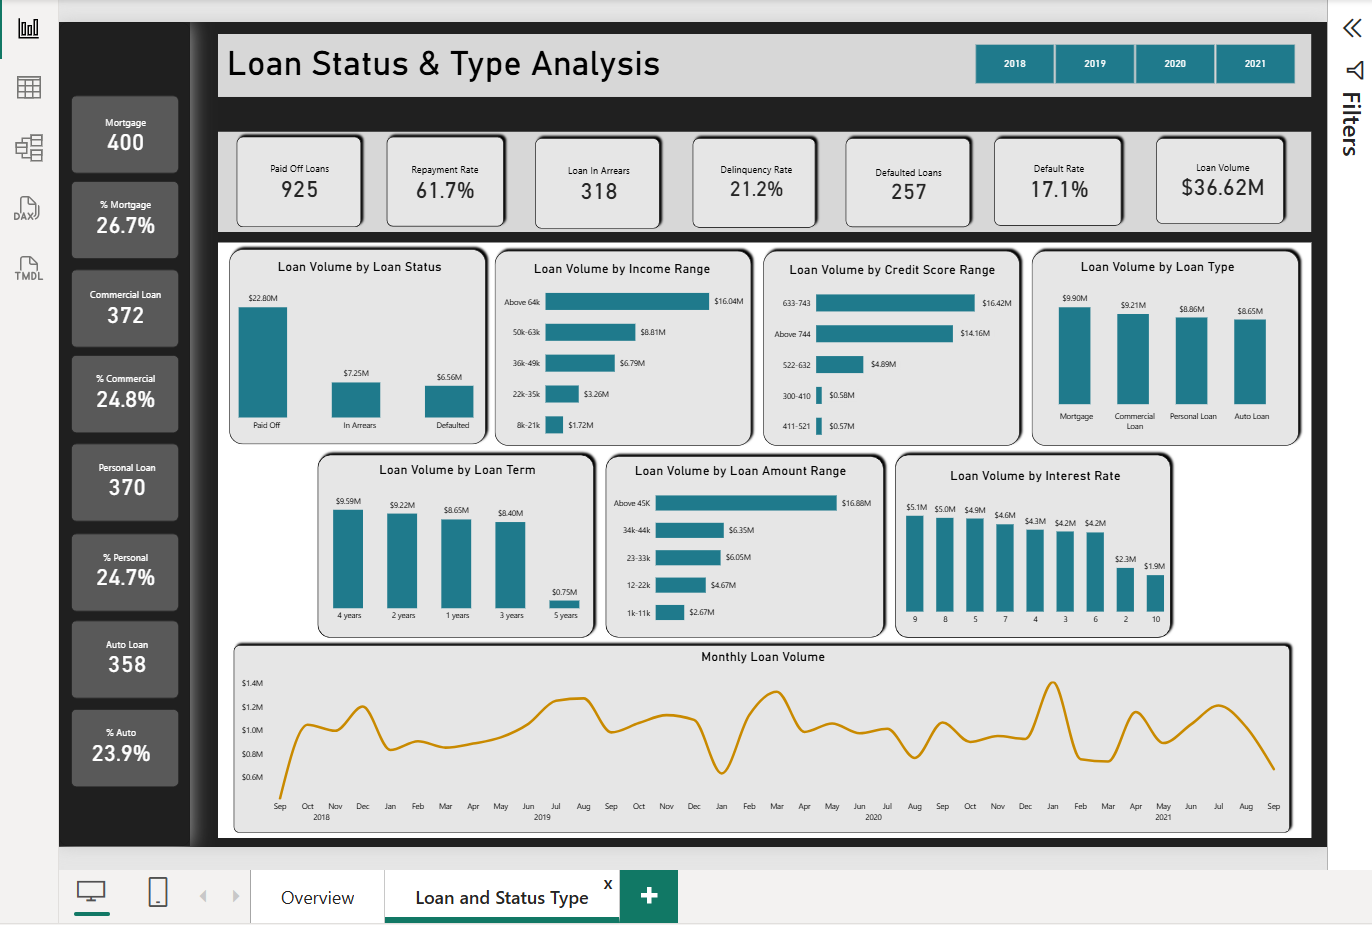

The dashboard page shown, as its layout file describes it:
{"tool":"powerbi","page":{"name":"Loan and Status Type","canvas":[2000,1300],"ordinal":1},"visuals":[{"type":"shape","box":[250.8,347.8,1724.8,939.3],"z":0},{"type":"shape","box":[250.8,18.9,1724.8,99.4],"z":1000},{"type":"shape","box":[250.8,172.7,1724.8,158.5],"z":2000},{"type":"shape","box":[267.4,974.8,1682.2,312.3],"z":3000},{"type":"shape","box":[272.5,172.5,212.7,159],"z":4000},{"type":"shape","box":[507.5,172.5,201.1,158],"z":5000},{"type":"shape","box":[742.5,175,212.7,159],"z":6000},{"type":"shape","box":[992.5,175,210,157.5],"z":7000},{"type":"shape","box":[1232.5,175,212.7,156.7],"z":8000},{"type":"shape","box":[1467.5,175,217.2,154.5],"z":9000},{"type":"shape","box":[1722.5,175,217.7,151.4],"z":11000},{"type":"cardVisual","fields":{"Data":["Measure Table.Paid Off Loans"]},"box":[287.5,195,182.2,118.3],"z":12000},{"type":"cardVisual","fields":{"Data":["Measure Table.Repayment Rate"]},"box":[522.5,190,172.7,130.1],"z":13000},{"type":"cardVisual","fields":{"Data":["Measure Table.Loan In Arrears"]},"box":[755,195,194,125.4],"z":14000},{"type":"cardVisual","fields":{"Data":["Measure Table.Delinquency Rate"]},"box":[995,195,208.2,118.3],"z":15000},{"type":"cardVisual","fields":{"Data":["Measure Table.Defaulted Loans"]},"box":[1240,210,201.1,94.6],"z":16000},{"type":"cardVisual","fields":{"Data":["Measure Table.Default Rate"]},"box":[1485,192.5,183.6,123.1],"z":17000},{"type":"cardVisual","fields":{"Data":["Measure Table.Loan Volume Display"]},"box":[1732.5,192.5,208.2,118.3],"z":19000},{"type":"lineChart","title":"Monthly Loan Volume","fields":{"Category":["Date Table.Year","Date Table.Month Name"],"Y":["Measure Table.Loan Volume"]},"box":[272.5,975,1677.5,312.5],"z":20000},{"type":"slicer","fields":{"Values":["Date Table.Year"]},"box":[1424.3,33.1,544.2,66.2],"z":21000},{"type":"shape","box":[0,0,206.9,1300],"z":22000},{"type":"shape","title":"Loan Status & Type Analysis","box":[250.8,33.1,712.1,80.4],"z":23000},{"type":"shape","box":[17.9,116.4,170,123],"z":24000},{"type":"shape","box":[17.9,250.8,170,123],"z":25000},{"type":"shape","box":[17.9,389.6,170,123],"z":26000},{"type":"shape","box":[17.9,526.1,170.2,123.1],"z":27000},{"type":"shape","box":[17.9,664.9,170,123],"z":28000},{"type":"shape","box":[17.9,806,170,123],"z":29000},{"type":"shape","box":[17.9,944.8,170,123],"z":30000},{"type":"shape","box":[17.9,1083.6,170.2,123.1],"z":31000},{"type":"cardVisual","fields":{"Data":["Measure Table.Mortgage"]},"box":[14.2,120.7,182.2,118.3],"z":32000},{"type":"cardVisual","fields":{"Data":["Measure Table.% Mortgage"]},"box":[14.2,250.8,182.2,118.3],"z":33000},{"type":"cardVisual","fields":{"Data":["Measure Table.Commercial Loan"]},"box":[14.2,392.7,182.2,118.3],"z":34000},{"type":"cardVisual","fields":{"Data":["Measure Table.% Commercial"]},"box":[14.2,525.2,182.2,118.3],"z":35000},{"type":"cardVisual","fields":{"Data":["Measure Table.Personal Loan"]},"box":[16.6,664.8,182.2,118.3],"z":36000},{"type":"cardVisual","fields":{"Data":["Measure Table.% Personal Loan"]},"box":[14.2,806.8,182.2,118.3],"z":37000},{"type":"cardVisual","fields":{"Data":["Measure Table.Auto Loan"]},"box":[16.6,944,182.2,118.3],"z":38000},{"type":"cardVisual","fields":{"Data":["Measure Table.% Auto Loan"]},"box":[7.1,1083.6,182.2,118.3],"z":39000},{"type":"shape","box":[260.3,350.2,421.1,324.1],"z":40000},{"type":"columnChart","title":"Loan Volume by Loan Status","fields":{"Category":["loan dataset.Loan Status"],"Y":["Measure Table.Loan Volume"]},"box":[267.4,359.6,414,305.2],"z":41000},{"type":"shape","box":[679,352.5,421.1,324.1],"z":42000},{"type":"shape","box":[1102.5,352.5,421.1,324.1],"z":43000},{"type":"shape","box":[1526,352.5,437.7,324.1],"z":44000},{"type":"shape","box":[400,675,451.9,305.2],"z":45000},{"type":"shape","box":[854.4,675.6,455,302.5],"z":46000},{"type":"shape","box":[1310,674.4,451,305],"z":47000},{"type":"clusteredBarChart","title":"Loan Volume by Income Range","fields":{"Category":["loan dataset.Income Range"],"Y":["Measure Table.Loan Volume"]},"box":[681.4,362,414,305.2],"z":48000},{"type":"clusteredBarChart","title":"Loan Volume by Credit Score Range","fields":{"Category":["loan dataset.Credit Score Range"],"Y":["Measure Table.Loan Volume Display"]},"box":[1107.5,365,415,305],"z":49000},{"type":"columnChart","title":"Loan Volume by Loan Type","fields":{"Category":["loan dataset.Loan Type"],"Y":["Measure Table.Loan Volume"]},"box":[1525,360,414,305.2],"z":50000},{"type":"columnChart","title":"Loan Volume by Loan Term","fields":{"Category":["loan dataset.Loan Term"],"Y":["Measure Table.Loan Volume"]},"box":[415.6,680,424.4,286.7],"z":51000},{"type":"columnChart","title":"Loan Volume by Interest Rate","fields":{"Category":["loan dataset.Interest Rate New"],"Y":["Measure Table.Loan Volume"]},"box":[1320,687.5,440,282.5],"z":52000},{"type":"clusteredBarChart","title":"Loan Volume by Loan Amount Range","fields":{"Category":["loan dataset.Loan Amount Range"],"Y":["Measure Table.Loan Volume"]},"box":[855,682.5,442.5,280],"z":53000}]}

Visuals, with their boxes on the page's 2000x1300 design canvas (x1, y1, x2, y2). These are canvas units, not pixel positions in the 1372x925 screenshot, which may show the page scaled, cropped or inside an application window:
shape: 251/348/1976/1287
shape: 251/19/1976/118
shape: 251/173/1976/331
shape: 267/975/1950/1287
shape: 272/172/485/332
shape: 508/172/709/330
shape: 742/175/955/334
shape: 992/175/1202/332
shape: 1232/175/1445/332
shape: 1468/175/1685/330
shape: 1722/175/1940/326
cardVisual - Measure Table.Paid Off Loans: 288/195/470/313
cardVisual - Measure Table.Repayment Rate: 522/190/695/320
cardVisual - Measure Table.Loan In Arrears: 755/195/949/320
cardVisual - Measure Table.Delinquency Rate: 995/195/1203/313
cardVisual - Measure Table.Defaulted Loans: 1240/210/1441/305
cardVisual - Measure Table.Default Rate: 1485/192/1669/316
cardVisual - Measure Table.Loan Volume Display: 1732/192/1941/311
"Monthly Loan Volume" lineChart: 272/975/1950/1288
slicer - Date Table.Year: 1424/33/1968/99
shape: 0/0/207/1300
"Loan Status & Type Analysis" shape: 251/33/963/114
shape: 18/116/188/239
shape: 18/251/188/374
shape: 18/390/188/513
shape: 18/526/188/649
shape: 18/665/188/788
shape: 18/806/188/929
shape: 18/945/188/1068
shape: 18/1084/188/1207
cardVisual - Measure Table.Mortgage: 14/121/196/239
cardVisual - Measure Table.% Mortgage: 14/251/196/369
cardVisual - Measure Table.Commercial Loan: 14/393/196/511
cardVisual - Measure Table.% Commercial: 14/525/196/644
cardVisual - Measure Table.Personal Loan: 17/665/199/783
cardVisual - Measure Table.% Personal Loan: 14/807/196/925
cardVisual - Measure Table.Auto Loan: 17/944/199/1062
cardVisual - Measure Table.% Auto Loan: 7/1084/189/1202
shape: 260/350/681/674
"Loan Volume by Loan Status" columnChart: 267/360/681/665
shape: 679/352/1100/677
shape: 1102/352/1524/677
shape: 1526/352/1964/677
shape: 400/675/852/980
shape: 854/676/1309/978
shape: 1310/674/1761/979
"Loan Volume by Income Range" clusteredBarChart: 681/362/1095/667
"Loan Volume by Credit Score Range" clusteredBarChart: 1108/365/1522/670
"Loan Volume by Loan Type" columnChart: 1525/360/1939/665
"Loan Volume by Loan Term" columnChart: 416/680/840/967
"Loan Volume by Interest Rate" columnChart: 1320/688/1760/970
"Loan Volume by Loan Amount Range" clusteredBarChart: 855/682/1298/962
